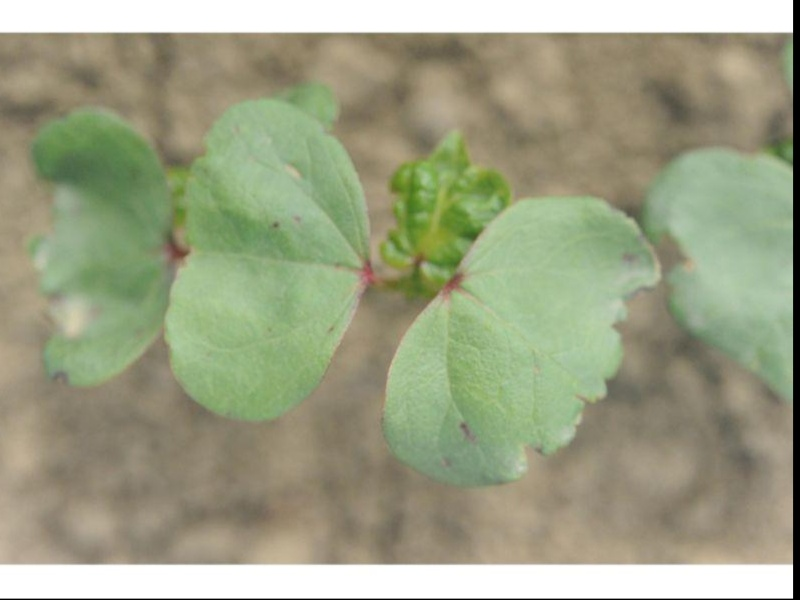cotton: (31, 96, 793, 483)
